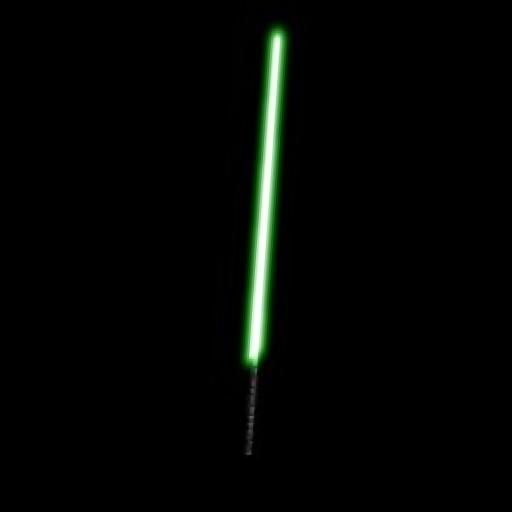lightsaber: (232, 23, 290, 458)
